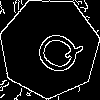Q: (24, 23, 86, 80)
